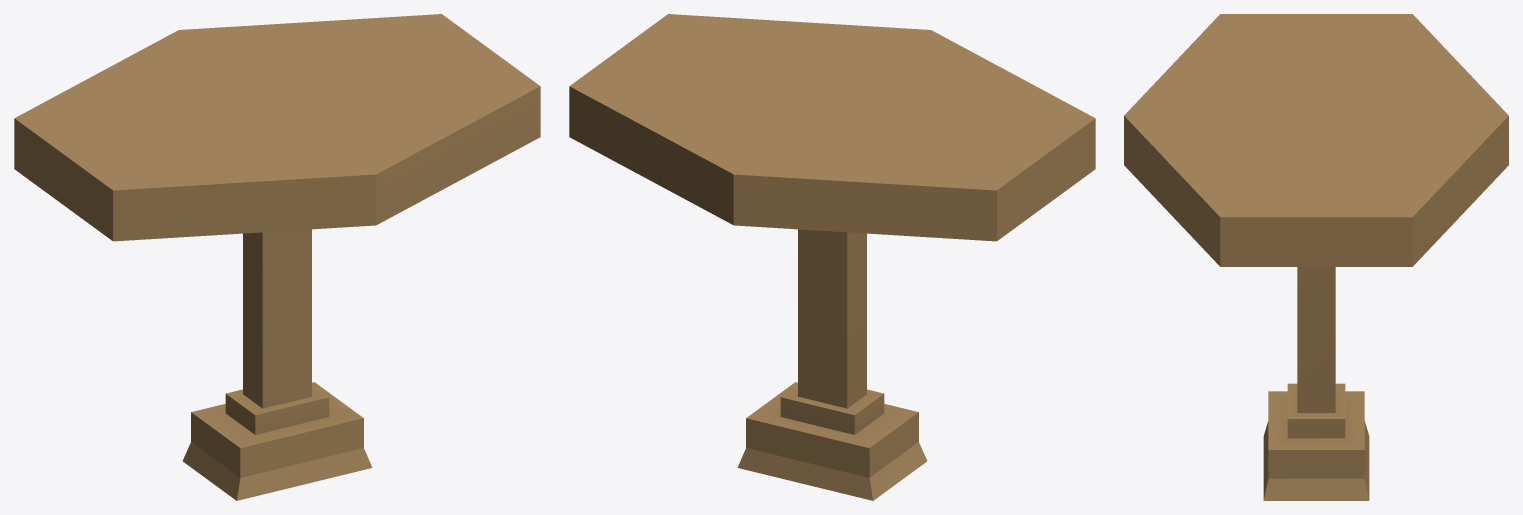
The model's file is table.glb.
3 views of the same model, side by side, from view 1: azimuth 30°, elevation 25°; view 2: azimuth 150°, elevation 25°; view 3: azimuth 270°, elevation 25° (orthographic). The views are drawn at different scales.
Visible parts, largest first — view 1: table; view 2: table; view 3: table.
Part boxes in pixels (<box>): table: <box>14,14,540,500</box>; table: <box>569,14,1095,500</box>; table: <box>1124,14,1508,500</box>.
Bounding box in the file's own units: 1 × 0.81 × 0.8.
